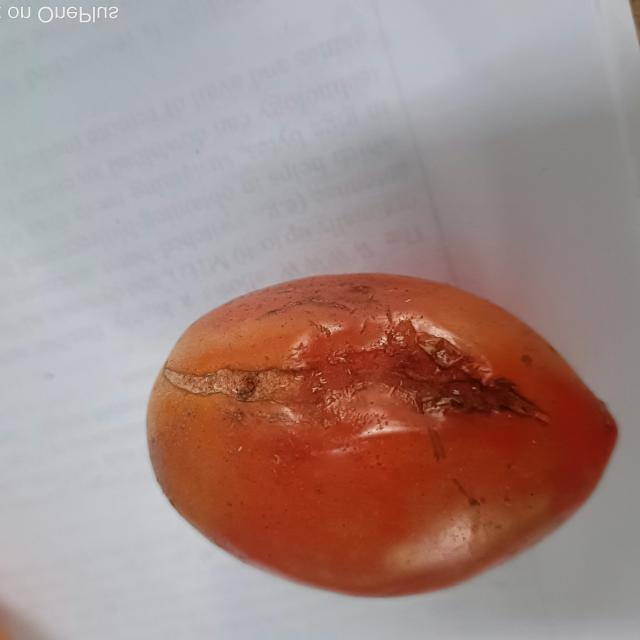tomato_cracking: (154, 302, 560, 427)
